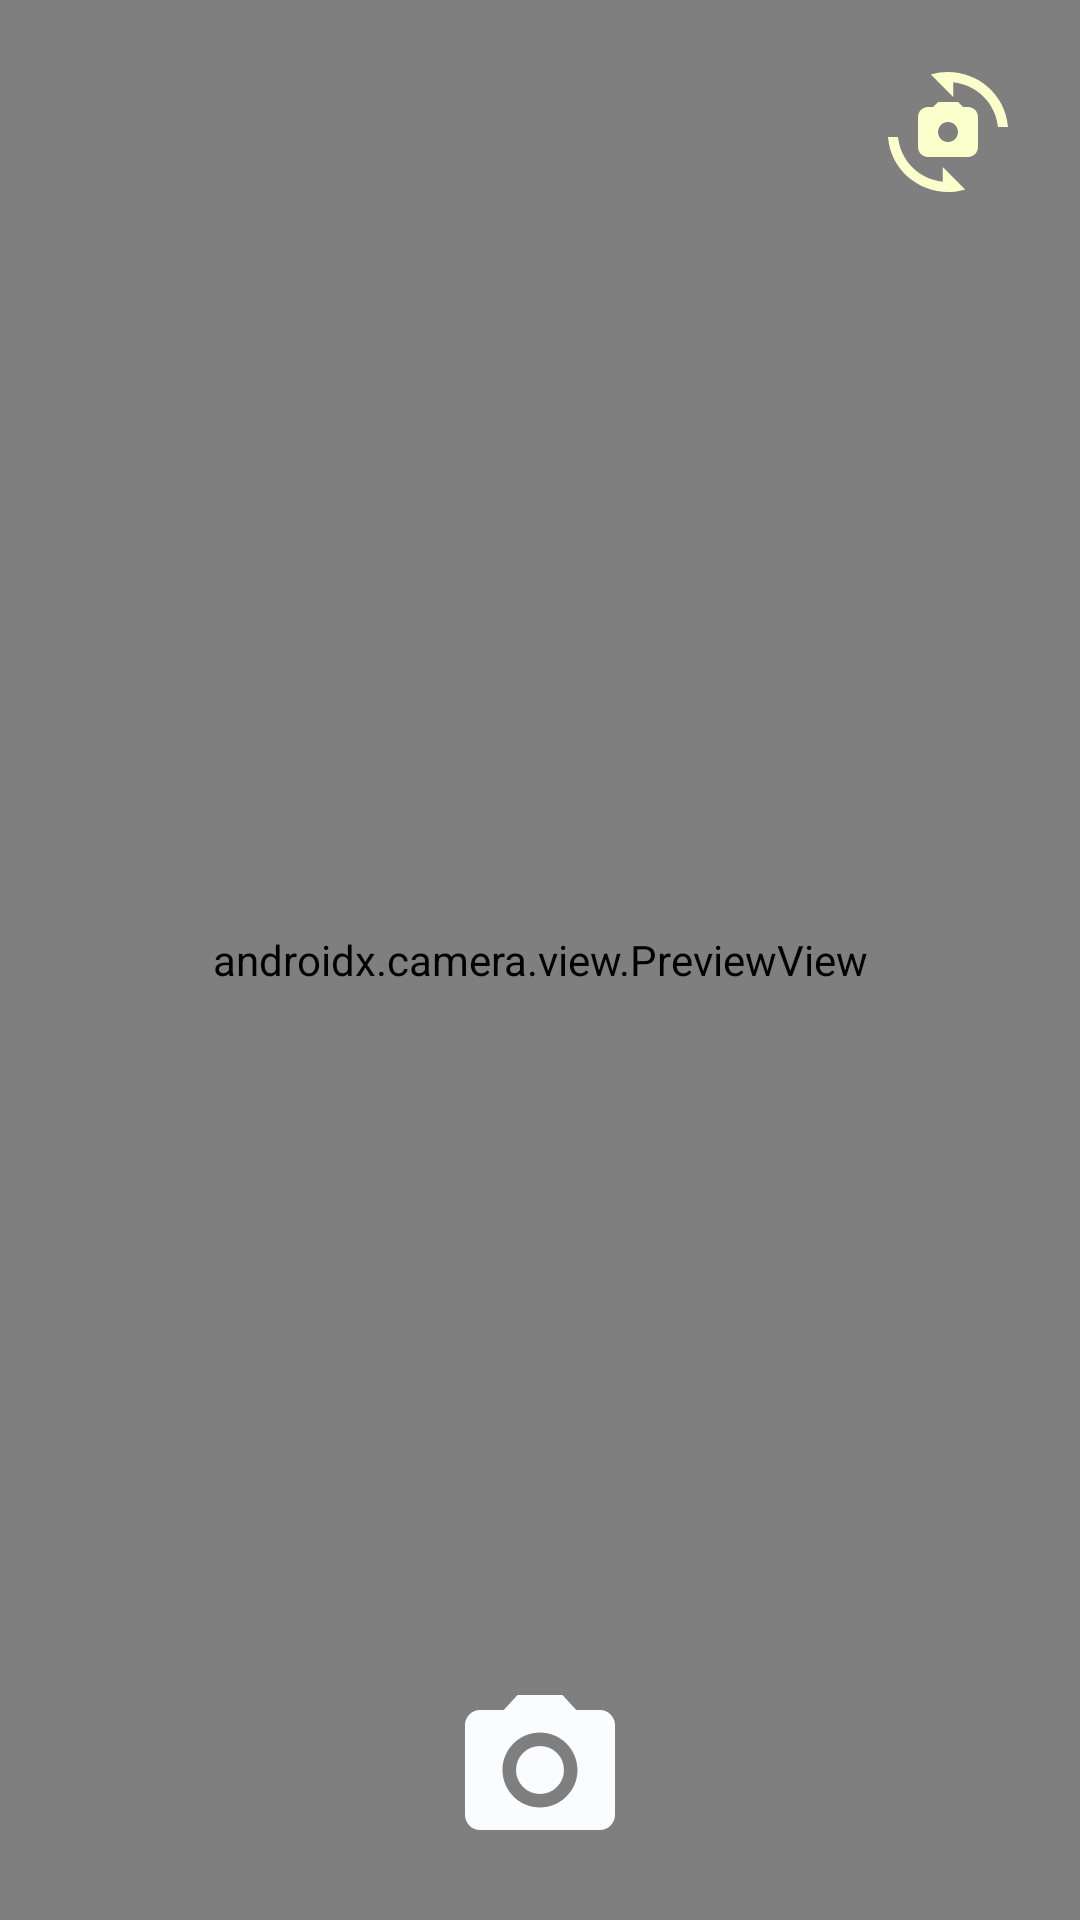

Where icons sit on this 1080 × 1920 app screen, as (x1, y1, x2, y2):
camera switch: (888, 72, 1008, 192)
